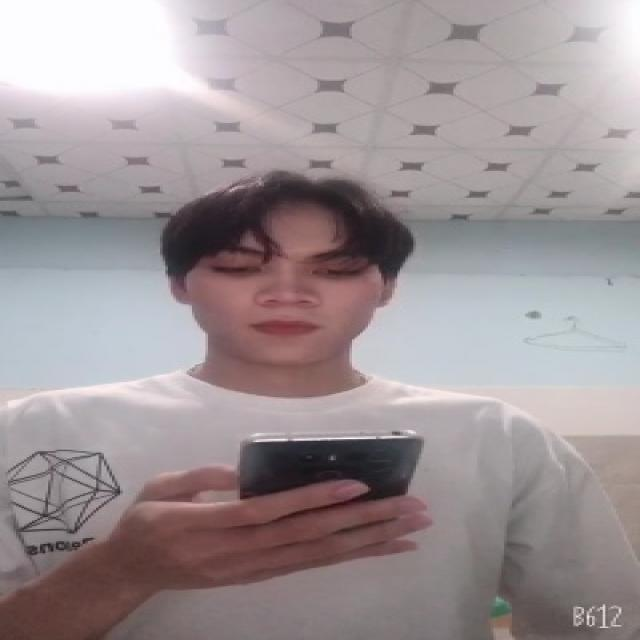Phone: (235, 425, 426, 536)
